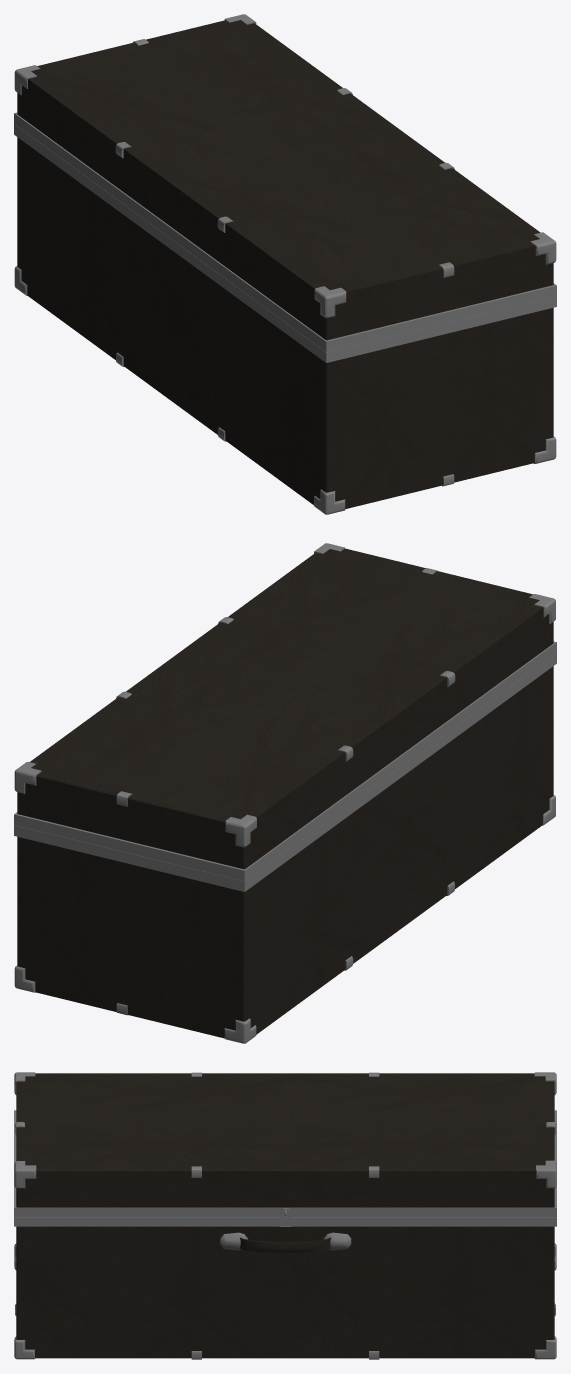
File: footlocker.obj
3 renders of one model, top to bottom at view 1: azimuth 30°, elevation 25°; view 2: azimuth 150°, elevation 25°; view 3: azimuth 270°, elevation 25°, orthographic. The views are drawn at different scales.
Parts seen in each view (by area): view 1: Top pCube2, Bottom pCube1, Top pCube24, Bottom pCube26, Top pCube8; view 2: Top pCube2, Bottom pCube1, Top pCube24, Bottom pCube26, Top pCube9; view 3: Top pCube2, Bottom pCube1, Top pCube24, Bottom pCube26, Bottom pPipe1, pCube7 Top, Top pCube10, Bottom pCylinder1, Bottom pCylinder2.
Boxes of the visible parts, x1,y1,x2,y2 form: Top pCube2: (17, 20, 553, 340); Bottom pCube1: (17, 137, 553, 508); Top pCube24: (14, 112, 556, 352); Bottom pCube26: (14, 124, 556, 362); Top pCube8: (314, 286, 346, 318); Top pCube2: (17, 548, 553, 869); Bottom pCube1: (17, 666, 553, 1038); Top pCube24: (14, 641, 556, 881); Bottom pCube26: (14, 653, 556, 891); Top pCube9: (225, 814, 256, 847); Top pCube2: (16, 1073, 554, 1207); Bottom pCube1: (16, 1226, 554, 1358); Top pCube24: (14, 1110, 556, 1217); Bottom pCube26: (14, 1217, 556, 1226); Bottom pPipe1: (240, 1237, 330, 1252); pCube7 Top: (14, 1161, 36, 1188); Top pCube10: (536, 1160, 556, 1188); Bottom pCylinder1: (323, 1232, 351, 1250); Bottom pCylinder2: (220, 1232, 247, 1250).
Bounding box in the file's own units: 5.61 × 4.75 × 12.25.
